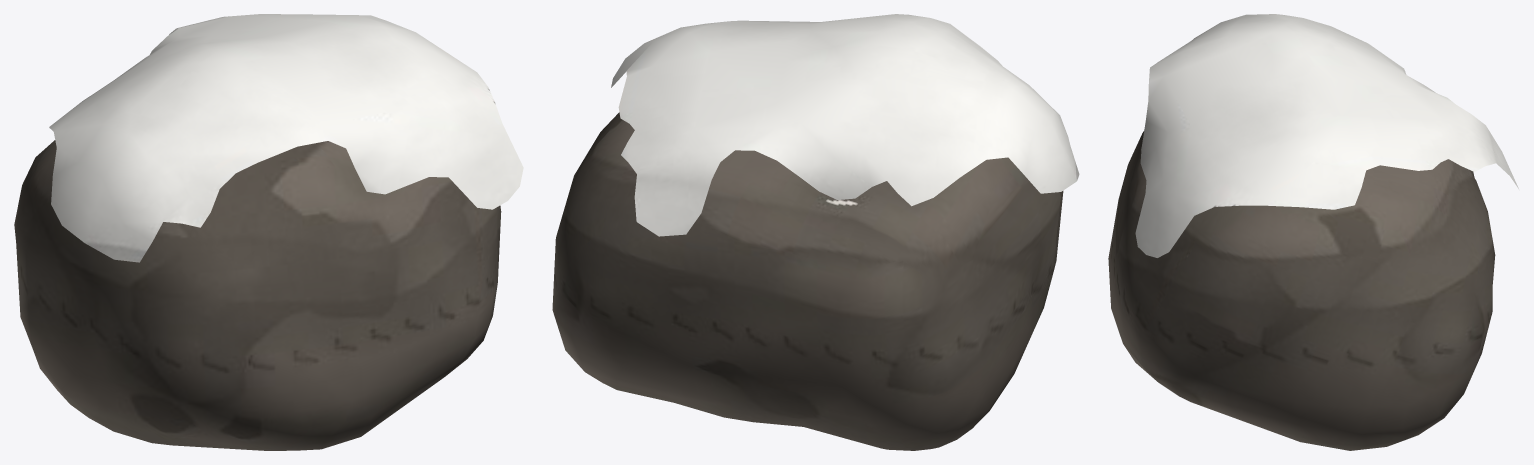
Rendered from rock_a.glb.
3 renders of one model, left to right at view 1: azimuth 30°, elevation 25°; view 2: azimuth 150°, elevation 25°; view 3: azimuth 270°, elevation 25°, orthographic. The views are drawn at different scales.
Visible parts, largest first — view 1: prop_rock_a_felt; view 2: prop_rock_a_felt; view 3: prop_rock_a_felt.
Part boxes in pixels (x1,y1,x2,y2): prop_rock_a_felt: (14,14,523,450); prop_rock_a_felt: (552,14,1079,450); prop_rock_a_felt: (1108,14,1518,450).
Size of the model in its own units: 1.28 by 1.06 by 1.15.
1 material, 1 textured.
